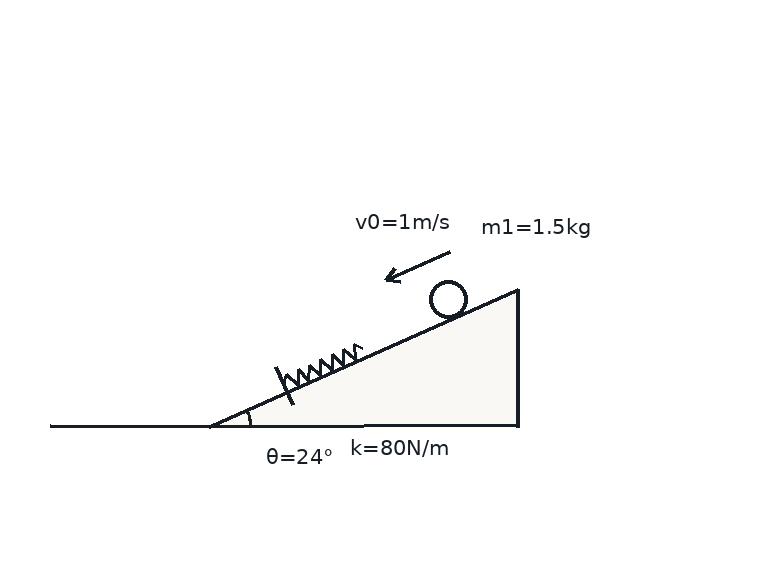ball: (427, 278, 469, 320)
ramp: (208, 287, 519, 428)
spring: (281, 342, 365, 387)
